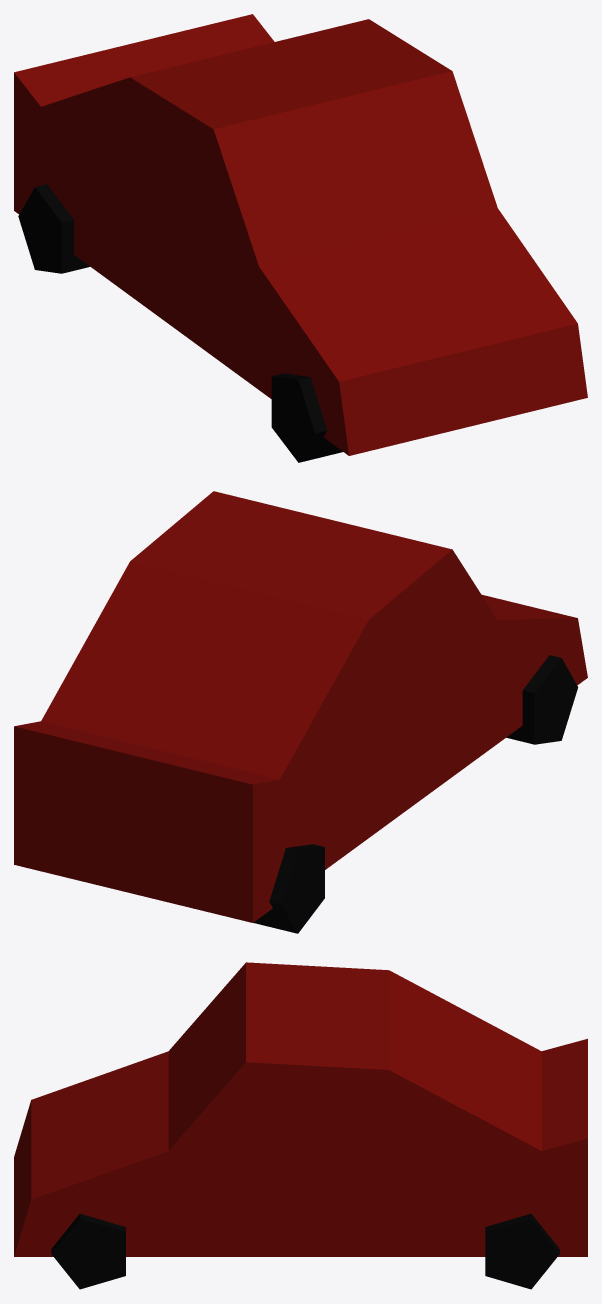
File: car.fbx
3 renders of one model, top to bottom at view 1: azimuth 30°, elevation 25°; view 2: azimuth 150°, elevation 25°; view 3: azimuth 270°, elevation 25°, orthographic. The views are drawn at different scales.
Visible parts, largest first — view 1: Cube, Cylinder; view 2: Cube, Cylinder; view 3: Cube, Cylinder.
Part boxes in pixels (bbox=[...]): Cube: bbox=[14, 14, 587, 455]; Cylinder: bbox=[18, 184, 342, 462]; Cube: bbox=[14, 491, 587, 922]; Cylinder: bbox=[253, 655, 578, 933]; Cube: bbox=[14, 962, 587, 1256]; Cylinder: bbox=[51, 1213, 559, 1289].
Size of the model in its own units: 174 by 164 by 384.
